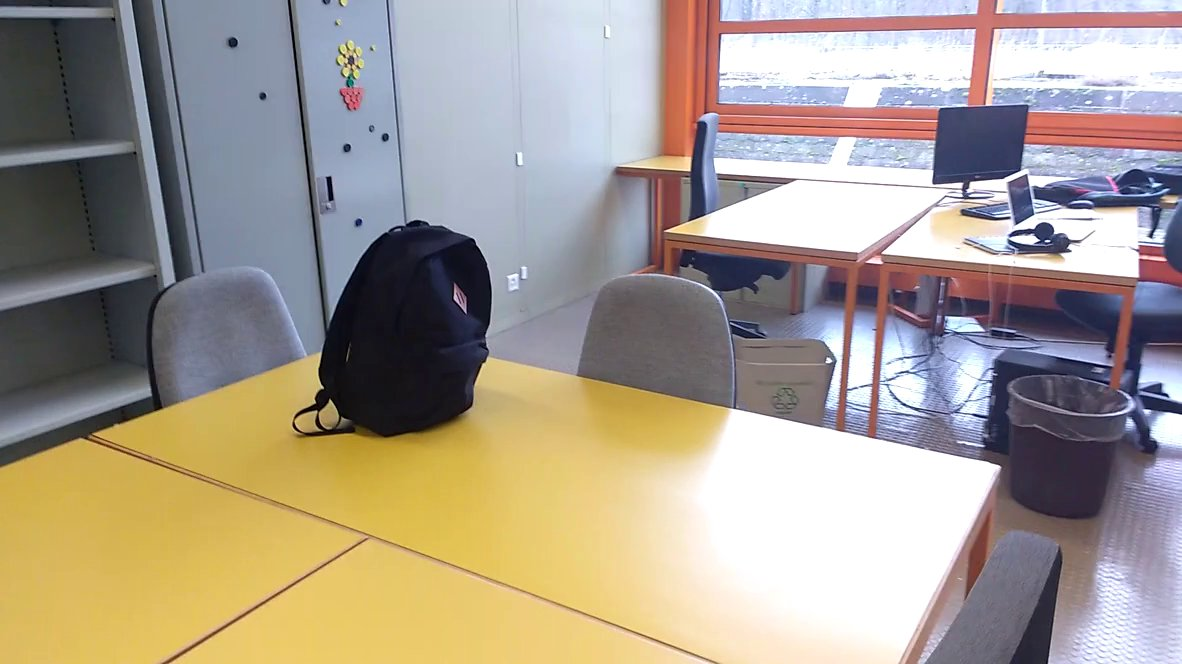bag: (288, 216, 501, 442)
bin: (1003, 366, 1137, 533)
box: (724, 328, 835, 437)
chair: (105, 241, 345, 424), (562, 259, 757, 450), (670, 99, 796, 365)
